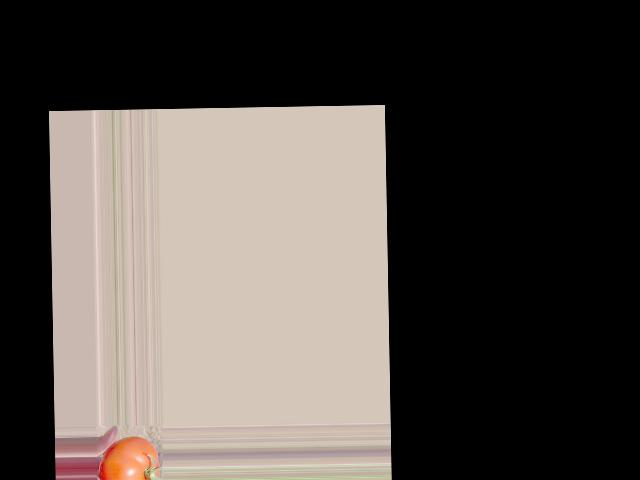tomato: (98, 437, 160, 480)
